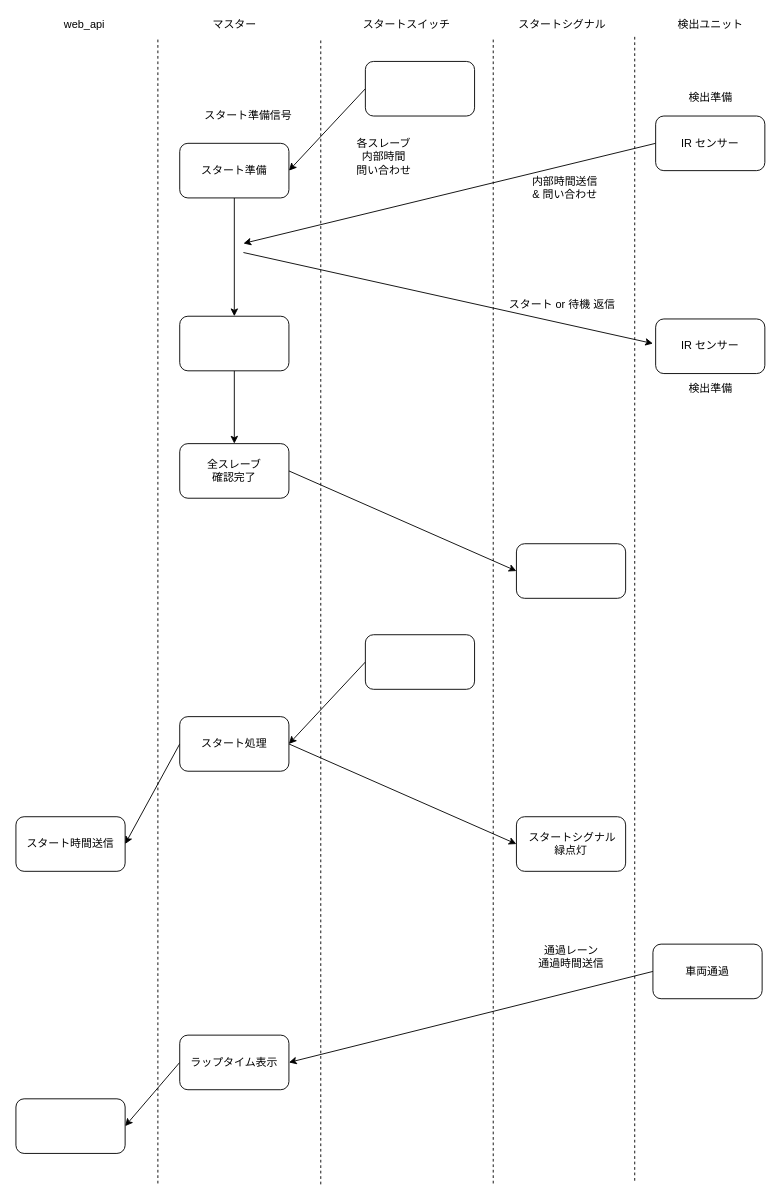
Image size: 781x1201. Some labels were removed from this diagram. Here are the shapes that lost their labels. From the top down, the box of each, then its label:
(364, 61, 475, 116): スタート準備ボタン
(179, 315, 289, 371): 信号到達確認
(516, 543, 626, 598): スタートシグナル 赤点灯
(364, 634, 475, 689): スタートボタン
(15, 1098, 125, 1153): ラップタイム送信
